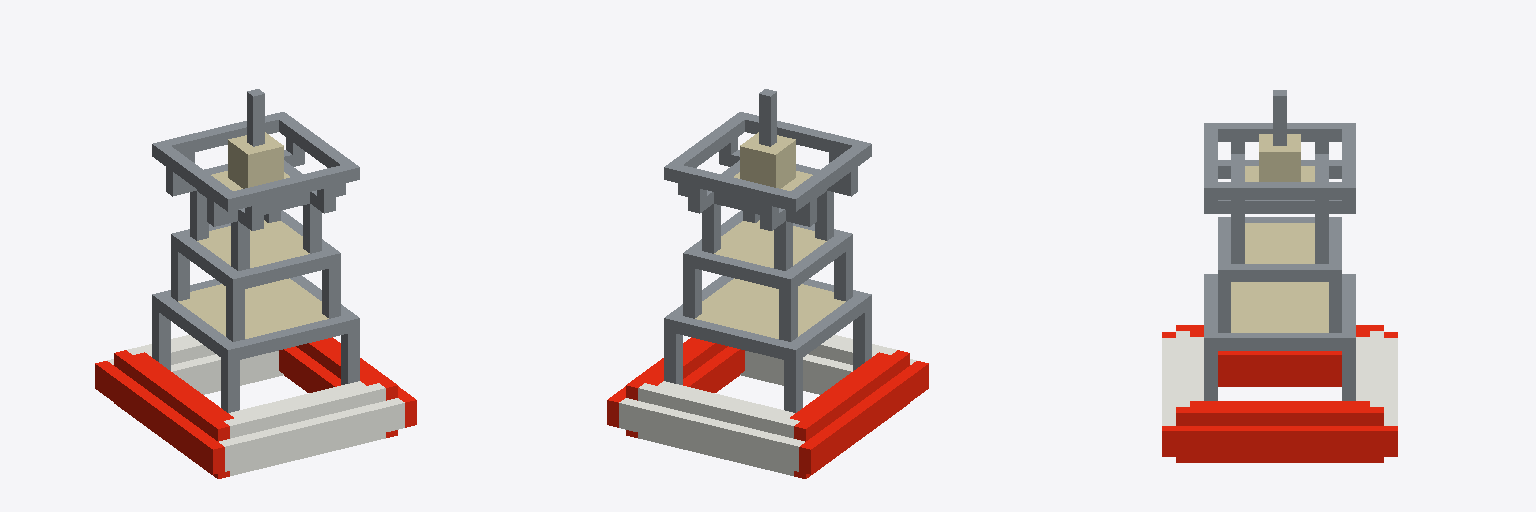
3 renders of one model, left to right at view 1: azimuth 30°, elevation 25°; view 2: azimuth 150°, elevation 25°; view 3: azimuth 270°, elevation 25°, orthographic.
Parts seen in each view (by area): view 1: object 1; view 2: object 1; view 3: object 1.
Part boxes in pixels (x1,y1,x2,y2): object 1: (95, 89, 416, 478); object 1: (607, 89, 928, 478); object 1: (1162, 90, 1397, 462).
Bounding box in the file's own units: 1.7 × 2.6 × 1.7.
Materials: 1 (1 with a texture image).